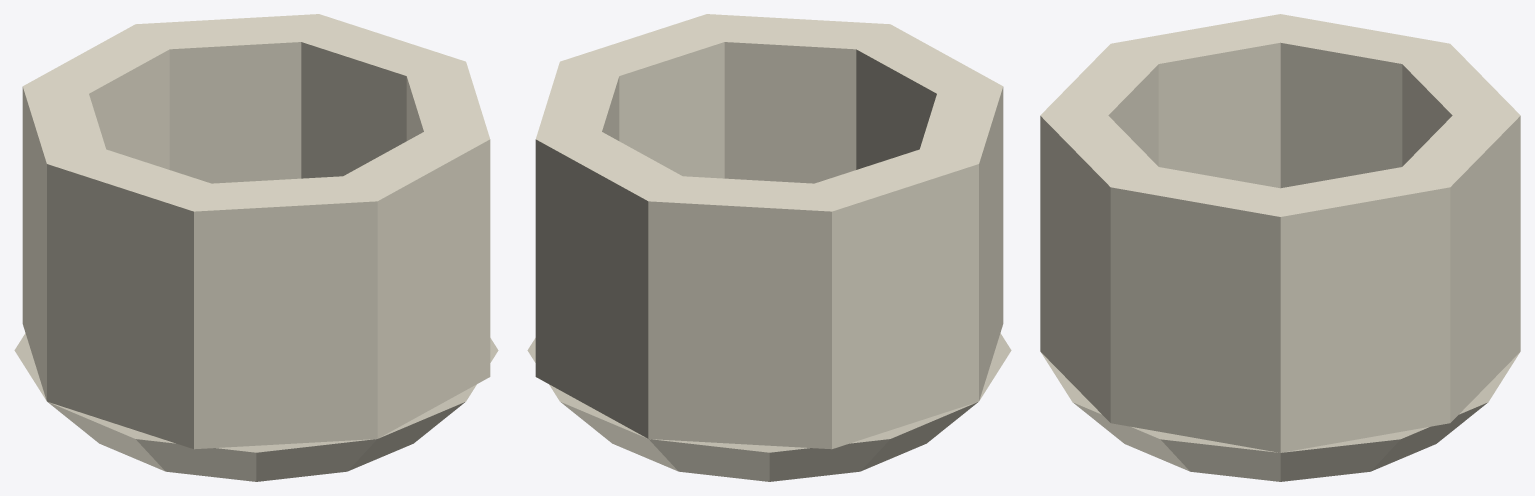
File: stone-planter.glb
3 renders of one model, left to right at view 1: azimuth 30°, elevation 25°; view 2: azimuth 150°, elevation 25°; view 3: azimuth 270°, elevation 25°, orthographic.
Parts seen in each view (by area): view 1: stone-planter; view 2: stone-planter; view 3: stone-planter.
Boxes of the visible parts, x1,y1,x2,y2 form: stone-planter: (14, 14, 498, 481); stone-planter: (527, 14, 1011, 481); stone-planter: (1040, 14, 1520, 481).
Bounding box in the file's own units: 1.2 × 0.8 × 1.2.
